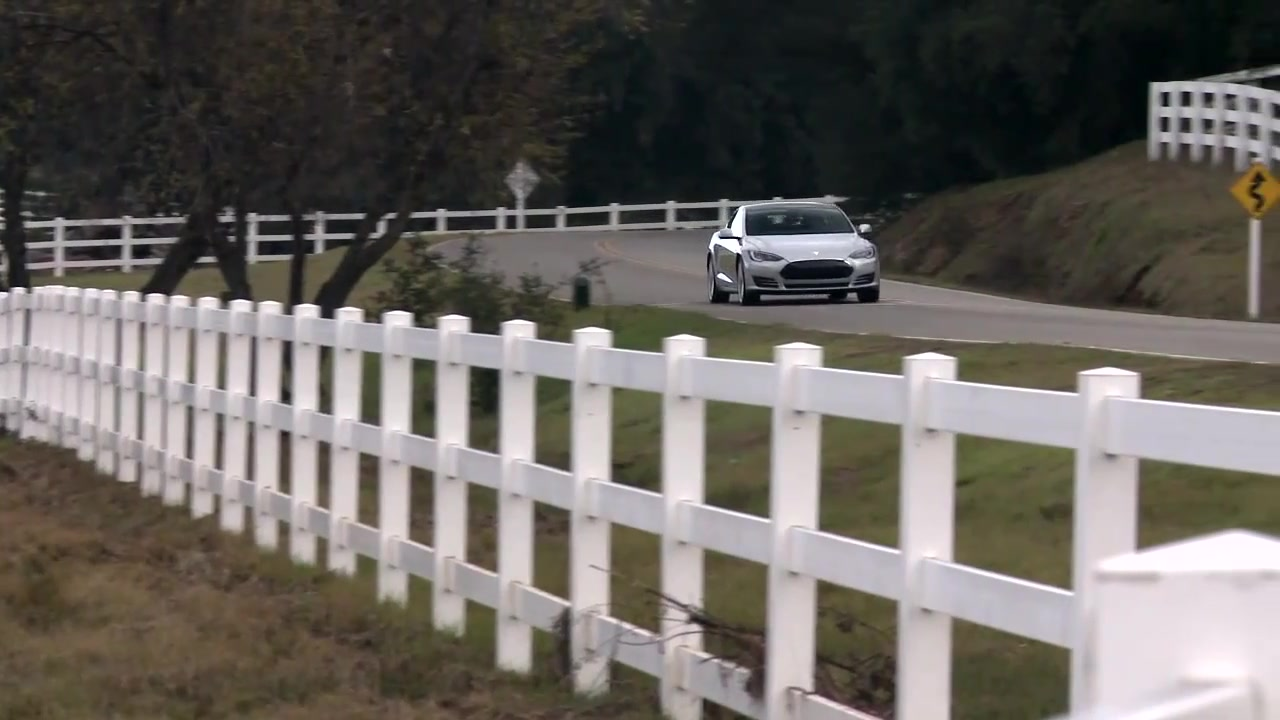car: (701, 199, 885, 305)
